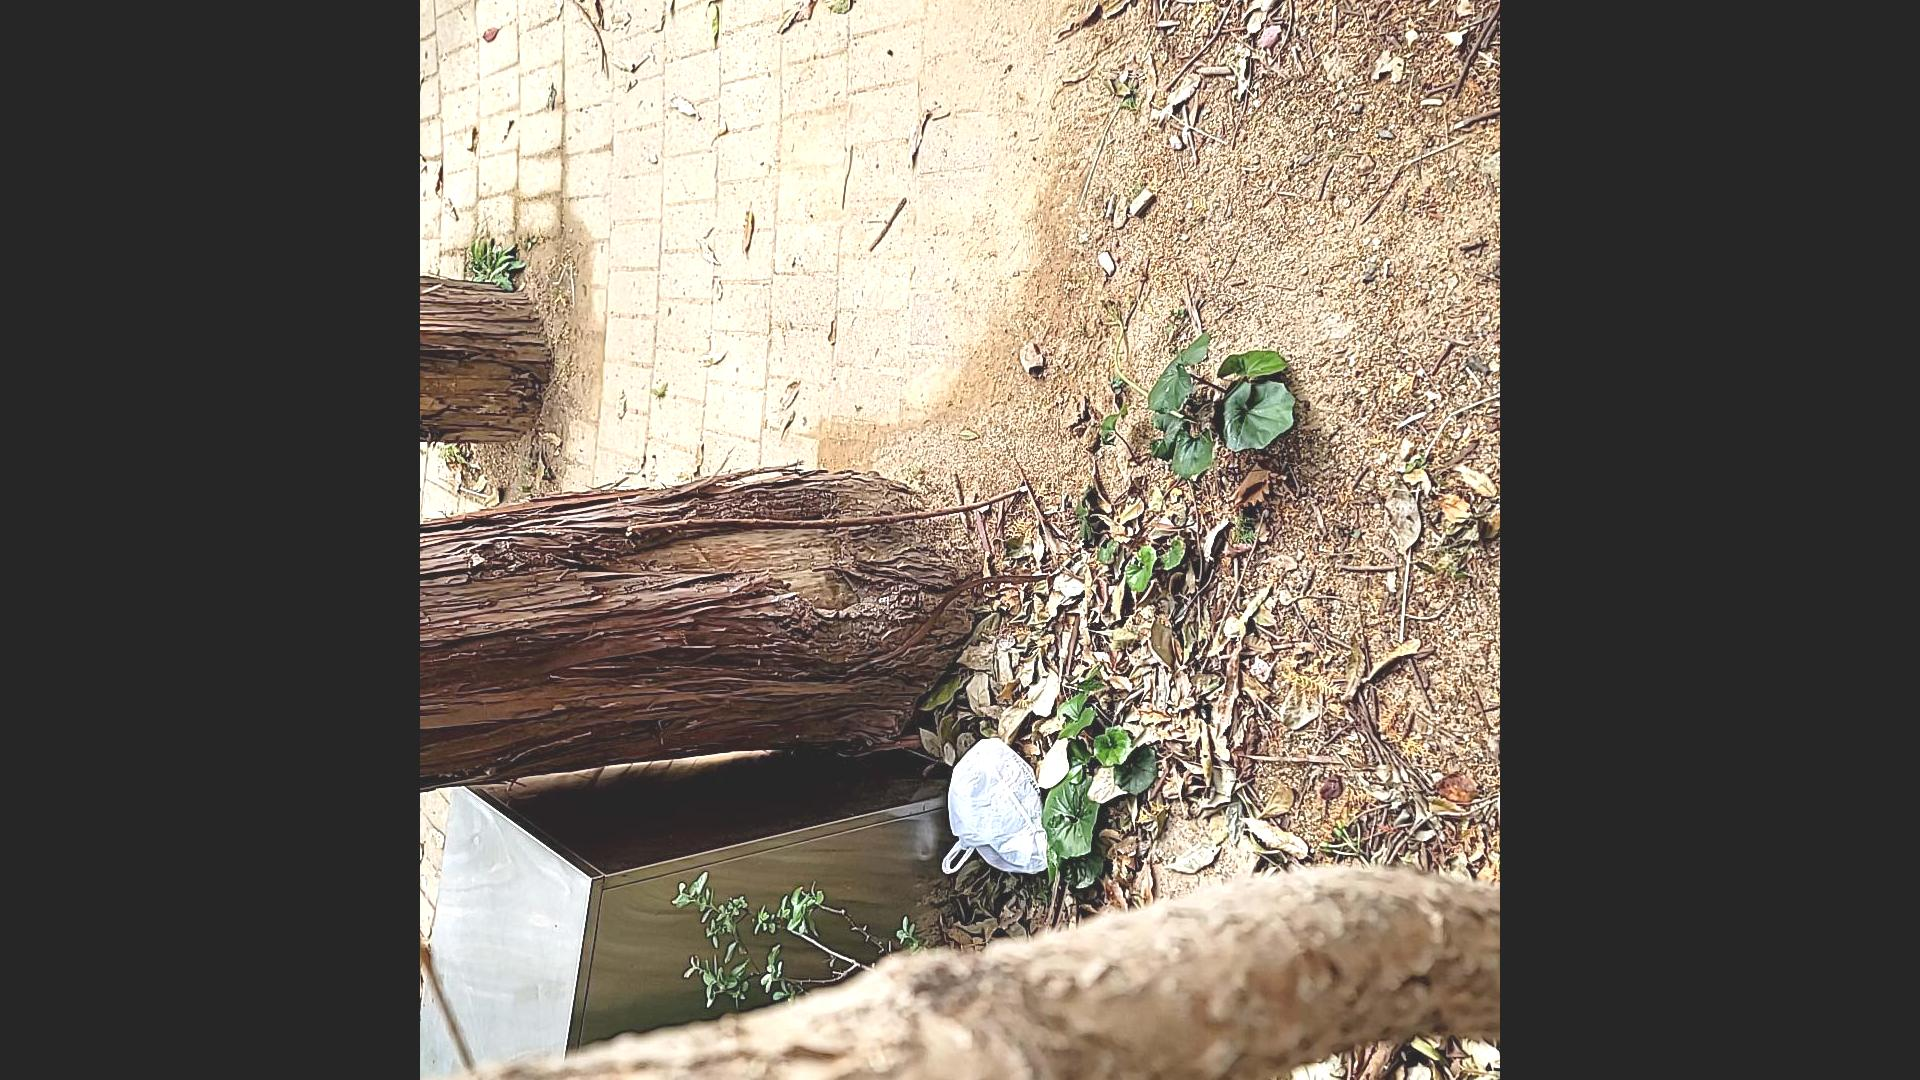white_bag: (924, 735, 1072, 893)
